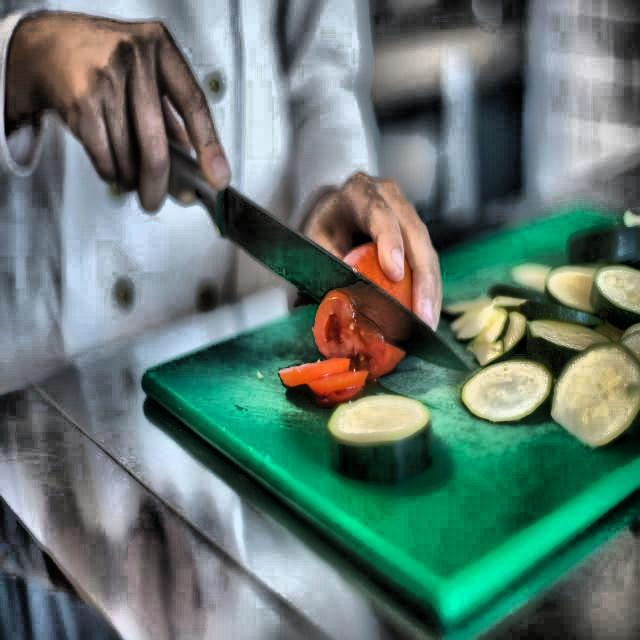knife: (128, 133, 474, 380)
